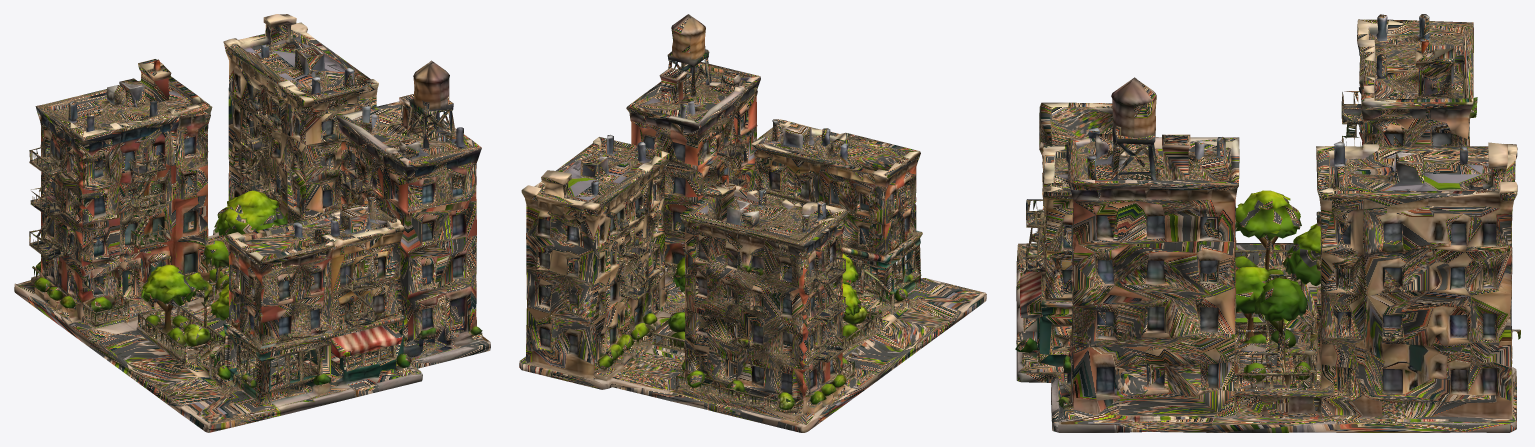
The model's file is block-walkups-a.glb.
The picture shows the model from 3 angles, left to right: view 1: azimuth 30°, elevation 25°; view 2: azimuth 150°, elevation 25°; view 3: azimuth 270°, elevation 25°; orthographic projection. The views are drawn at different scales.
Visible parts, largest first — view 1: tripo_node_5c6877cd-c38e-469a-9fd2-818b80065ebc; view 2: tripo_node_5c6877cd-c38e-469a-9fd2-818b80065ebc; view 3: tripo_node_5c6877cd-c38e-469a-9fd2-818b80065ebc.
Boxes of the visible parts, <box> form: tripo_node_5c6877cd-c38e-469a-9fd2-818b80065ebc: <box>14,14,490,432</box>; tripo_node_5c6877cd-c38e-469a-9fd2-818b80065ebc: <box>519,14,986,432</box>; tripo_node_5c6877cd-c38e-469a-9fd2-818b80065ebc: <box>1015,14,1520,432</box>.
Size of the model in its own units: 0.848 by 0.7375 by 0.9812.
Materials: 1 (1 with a texture image).
